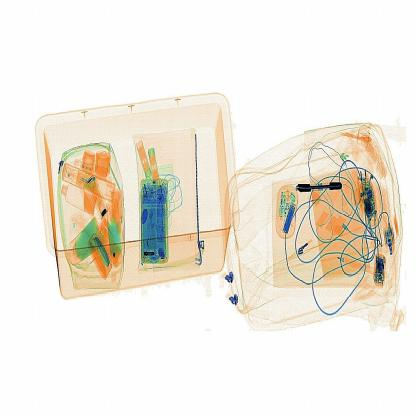knife: (288, 171, 348, 210)
